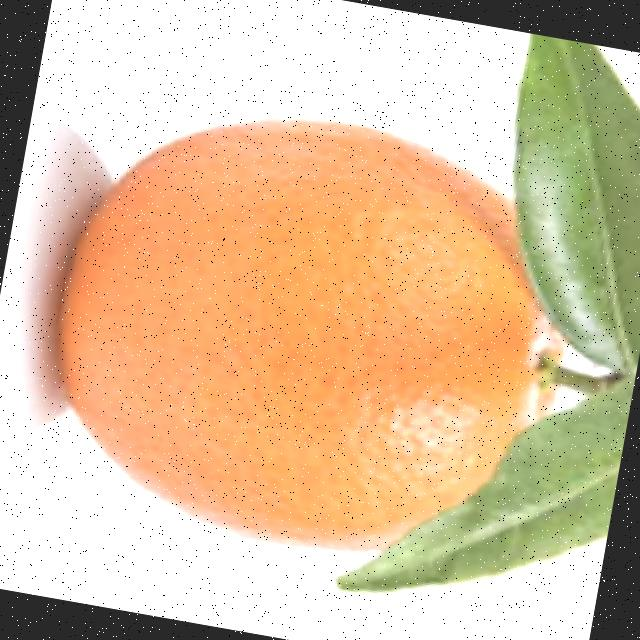orange: (27, 74, 610, 593)
